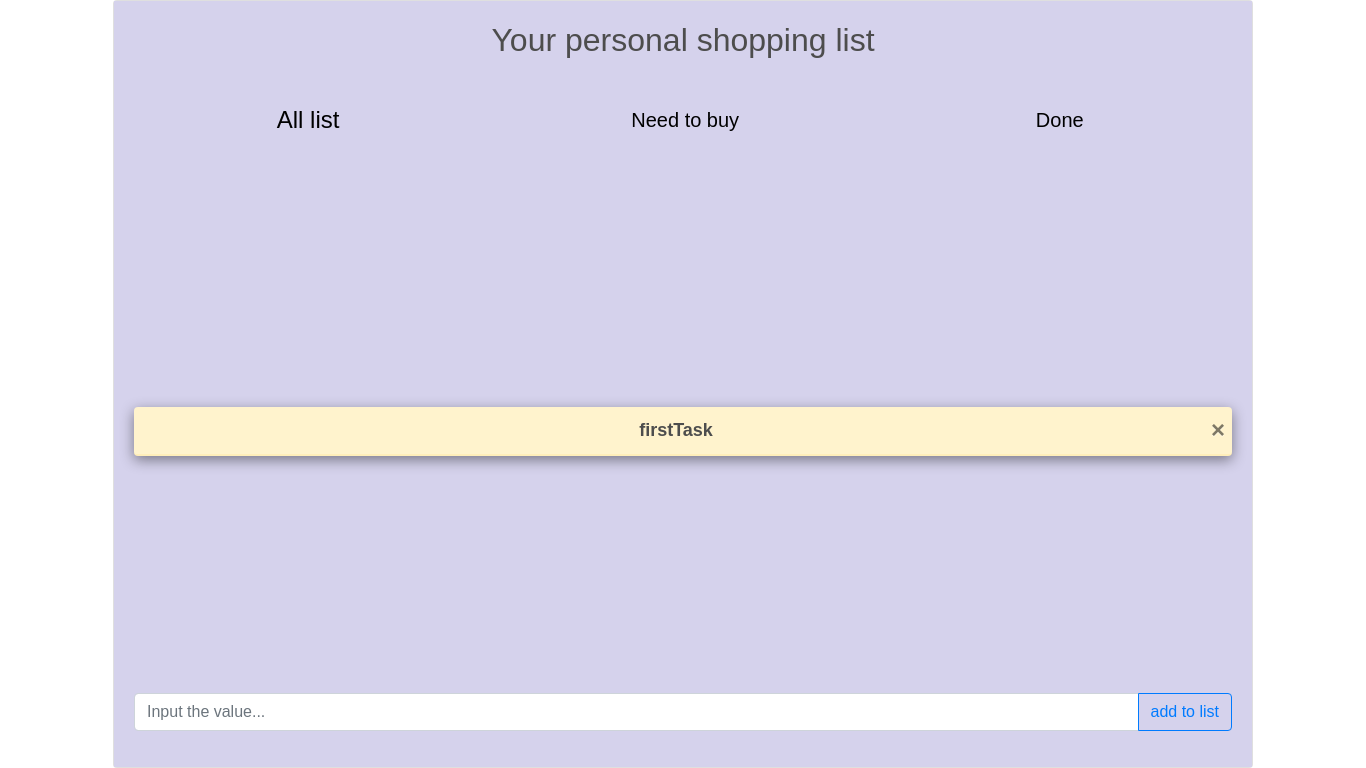
Test case: change filter
Expected: the button with test id "element" is shown, [141,410,1211,451]
Click the button "Done": click(1060, 124) [1030,107,1090,141]
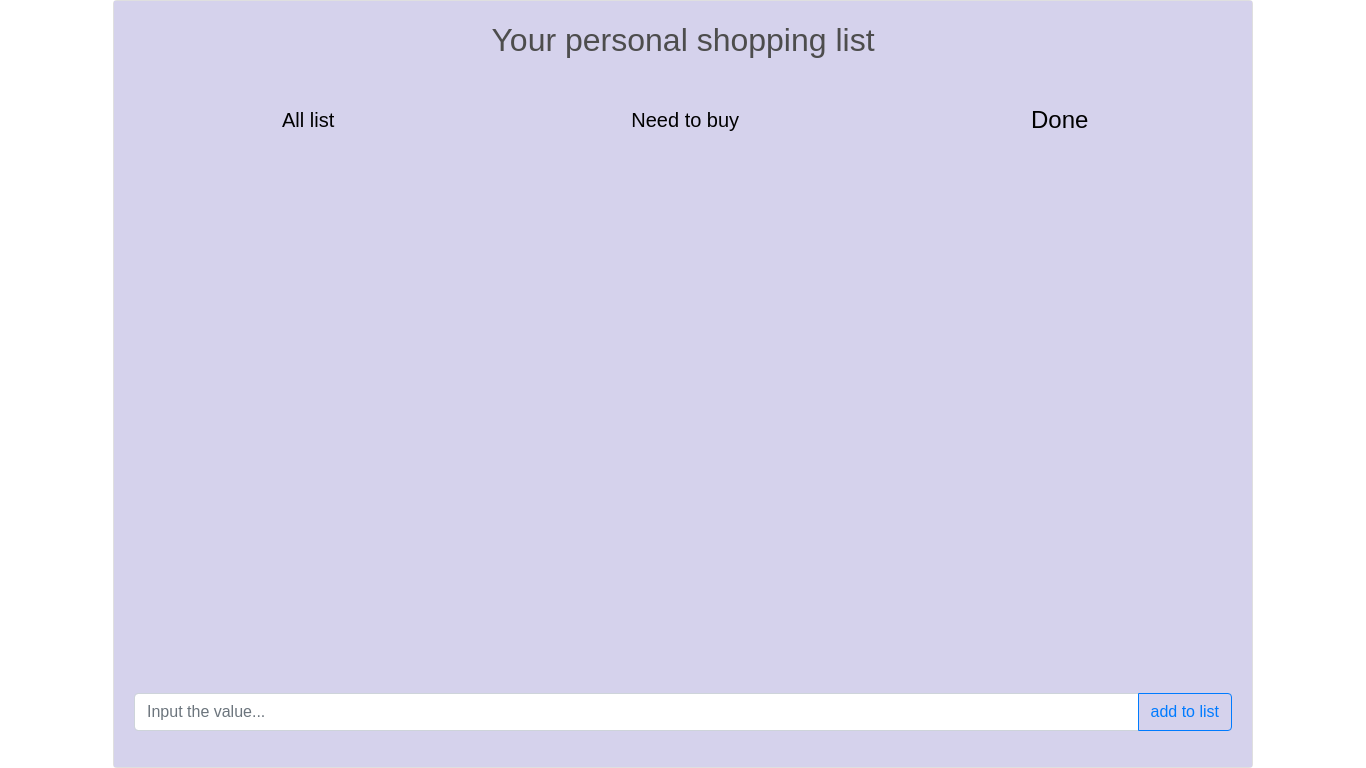
Now the button with test id "element" is gone
